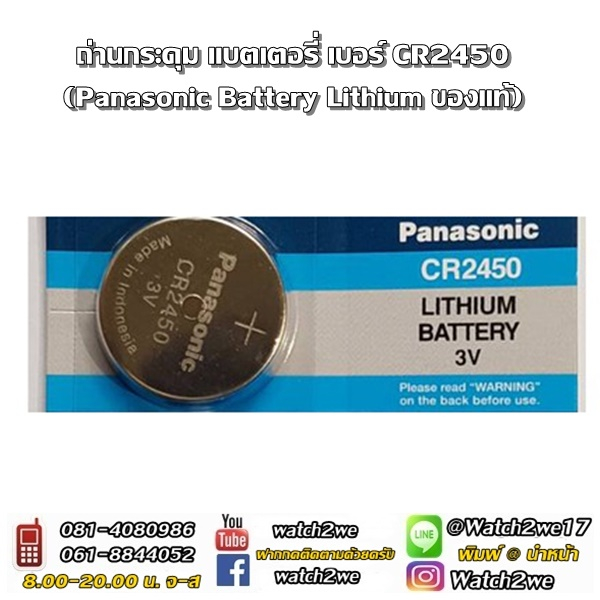Battery: (92, 211, 294, 410)
